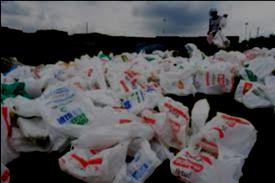Plastic: (171, 108, 256, 182), (41, 84, 104, 139)
